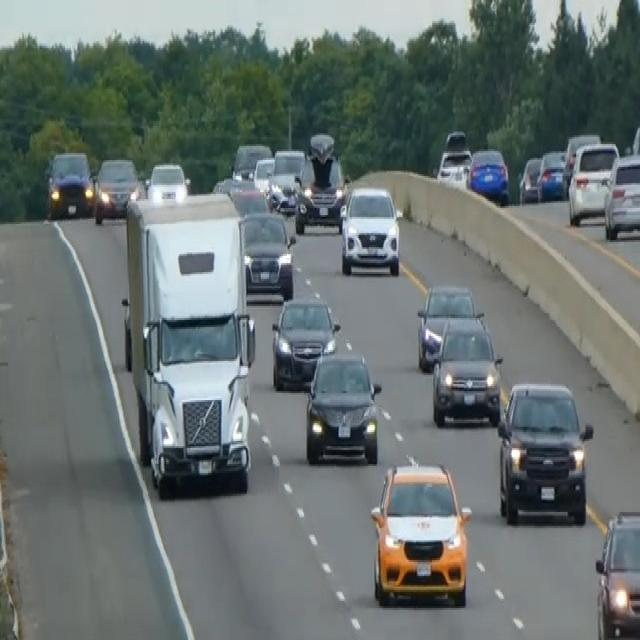car: (369, 457, 472, 608), (496, 377, 593, 526), (304, 348, 381, 466), (431, 313, 503, 427), (270, 294, 340, 389), (416, 279, 481, 372), (594, 507, 639, 638), (340, 183, 401, 277), (293, 131, 347, 233), (239, 208, 296, 300), (567, 138, 619, 225), (46, 148, 94, 218), (93, 155, 141, 224), (603, 149, 639, 240), (561, 130, 601, 194), (466, 146, 509, 204), (268, 146, 305, 213), (230, 138, 273, 186), (436, 128, 472, 185), (145, 160, 190, 199), (537, 147, 566, 201), (518, 153, 542, 204), (253, 154, 275, 193)
lorry: (120, 187, 256, 494)
